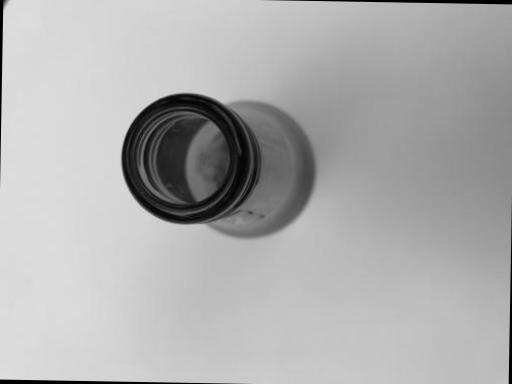glass: (94, 69, 352, 278)
